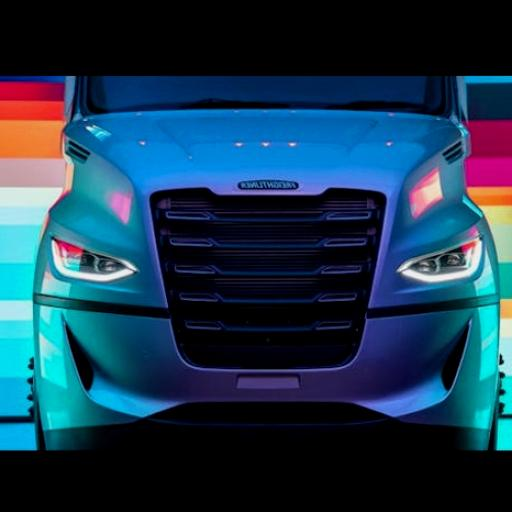truck: (31, 76, 502, 448)
